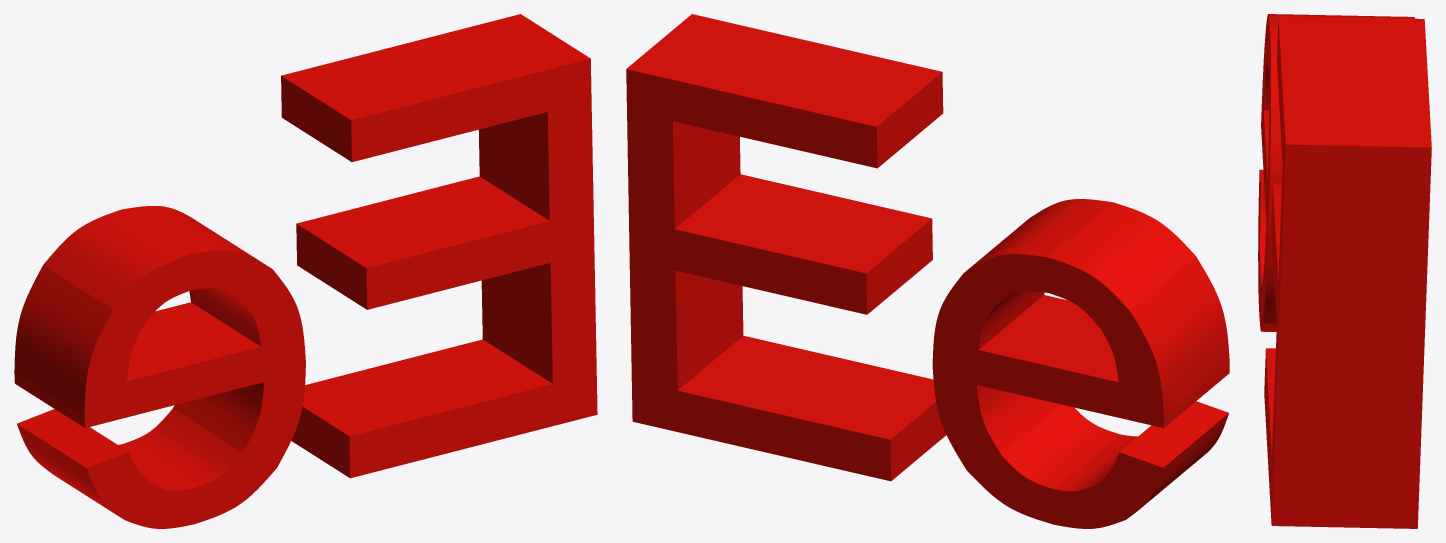
3 views of the same model, side by side, from view 1: azimuth 30°, elevation 25°; view 2: azimuth 150°, elevation 25°; view 3: azimuth 270°, elevation 25° (orthographic). The views are drawn at different scales.
Visible parts, largest first — view 1: Mesh_0.005; view 2: Mesh_0.005; view 3: Mesh_0.005.
Boxes of the visible parts, bbox=[...] form: Mesh_0.005: bbox=[14, 14, 597, 528]; Mesh_0.005: bbox=[626, 14, 1229, 528]; Mesh_0.005: bbox=[1258, 14, 1431, 528].
Bounding box in the file's own units: 11.08 × 7.35 × 2.95.
